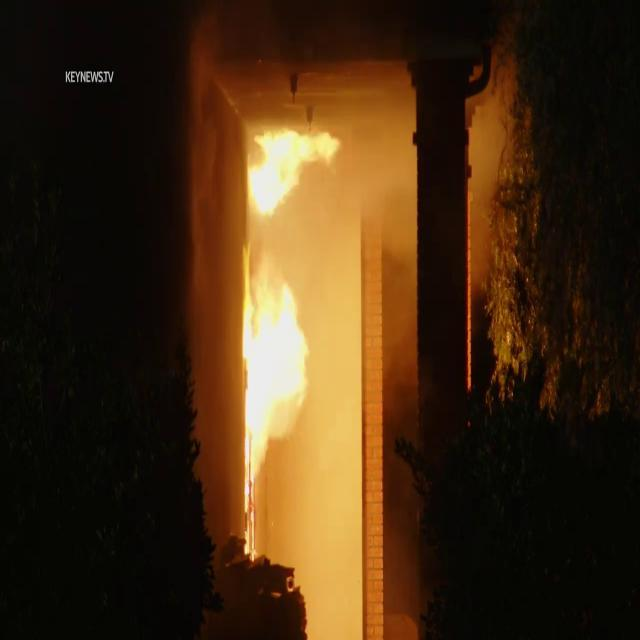Fire: (235, 110, 318, 546)
